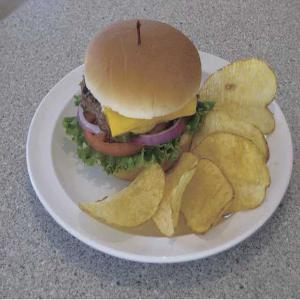cheeseburger: (77, 18, 209, 185)
